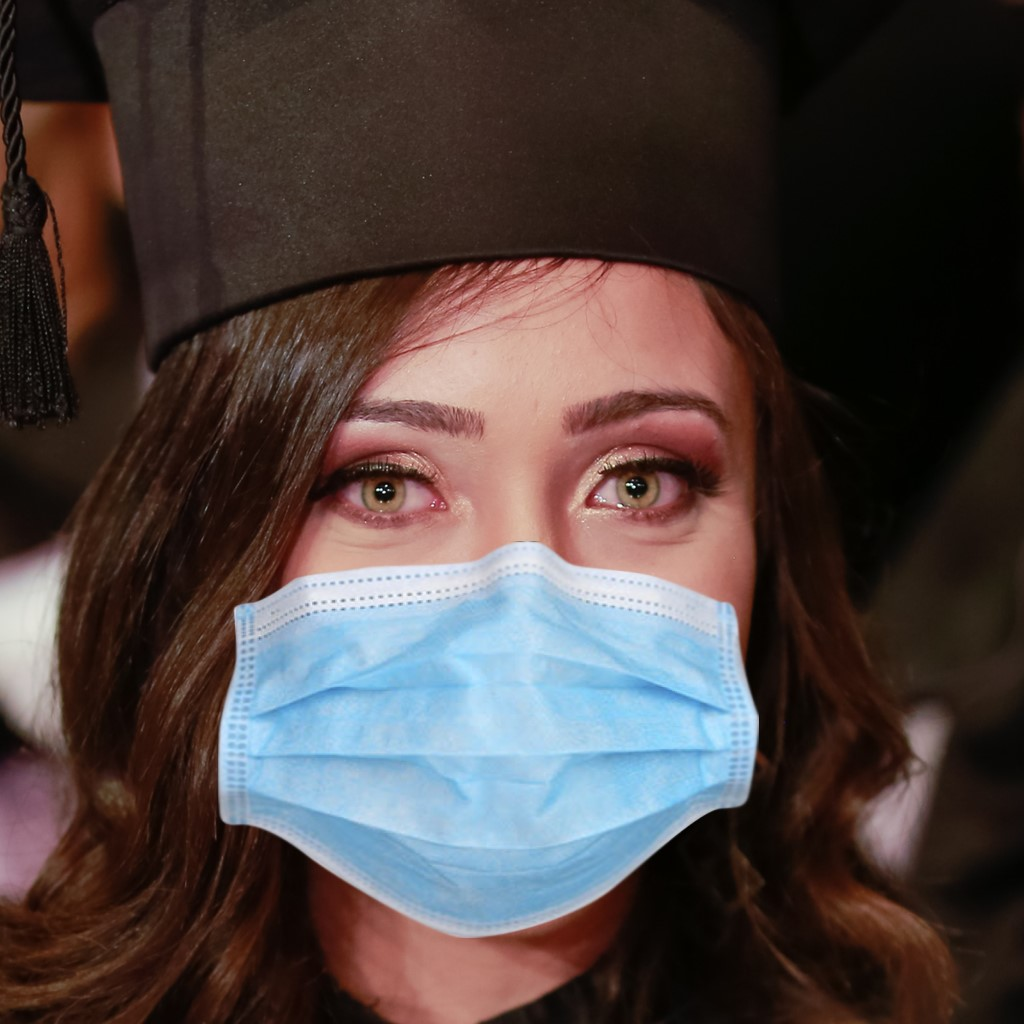con_mascara: (195, 238, 744, 926)
